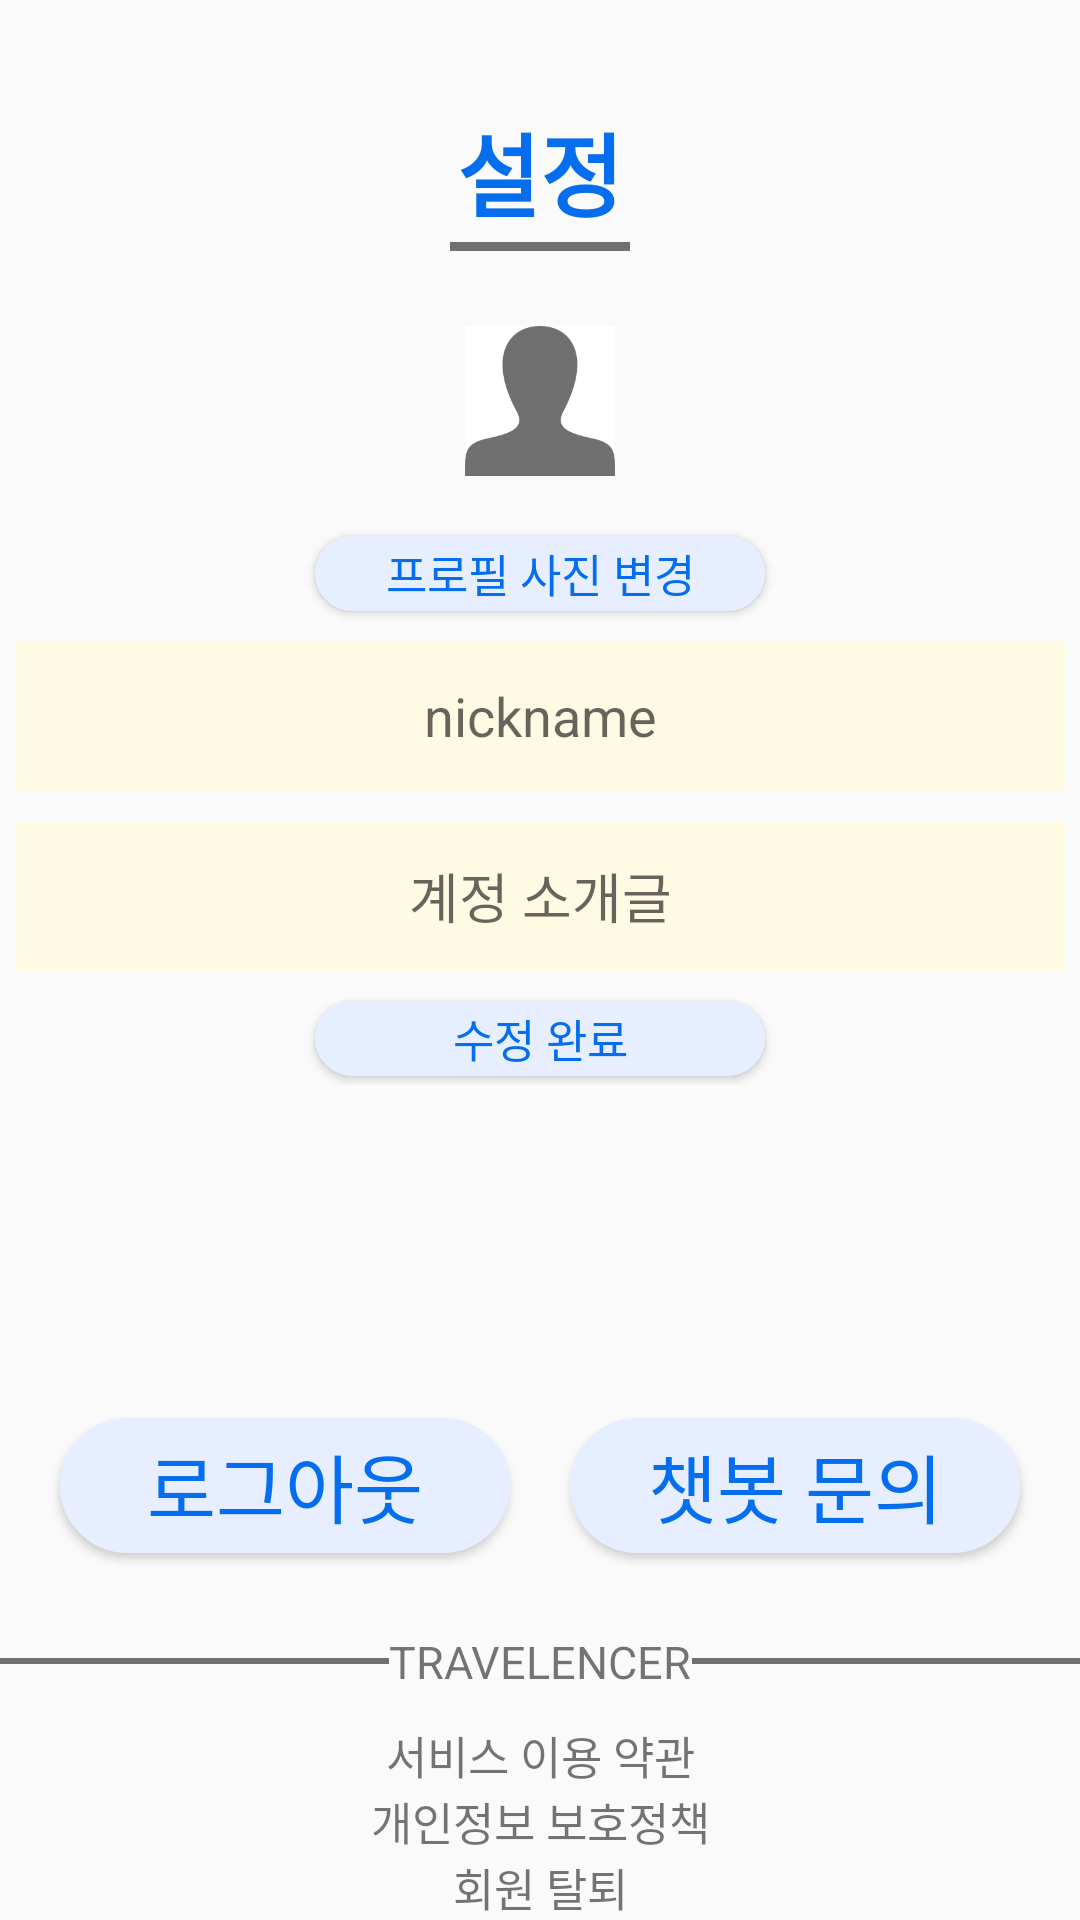

Point at icon controls on the screen. Image size 1080px×1920px, points as (x=x, y=y).
user: (x=540, y=401)
